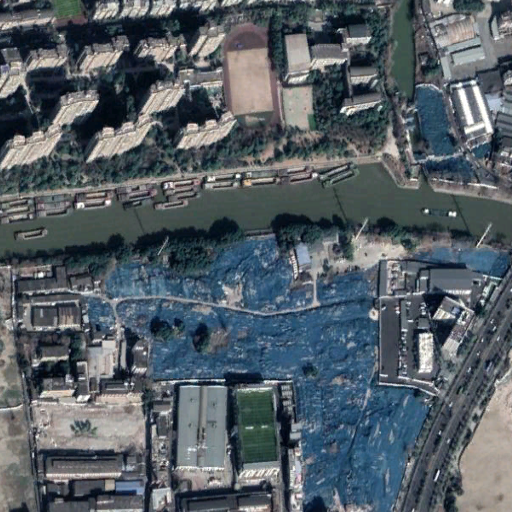cw: (88, 240, 512, 512), (415, 83, 496, 187)
